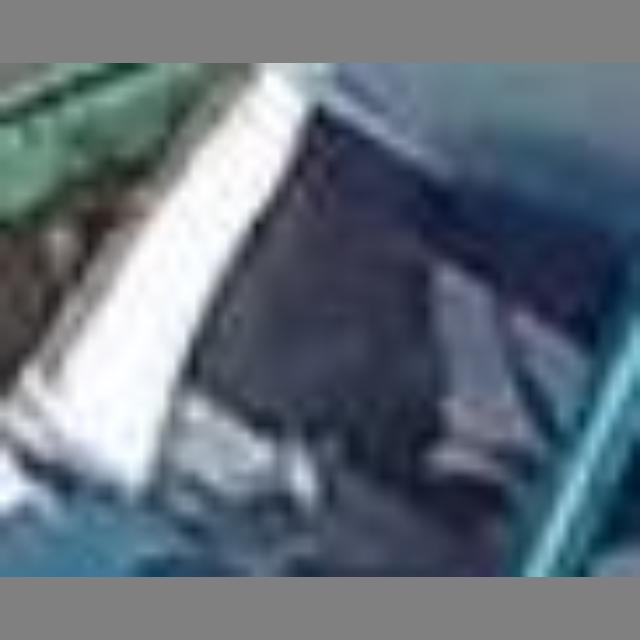pakai: (378, 210, 577, 483)
